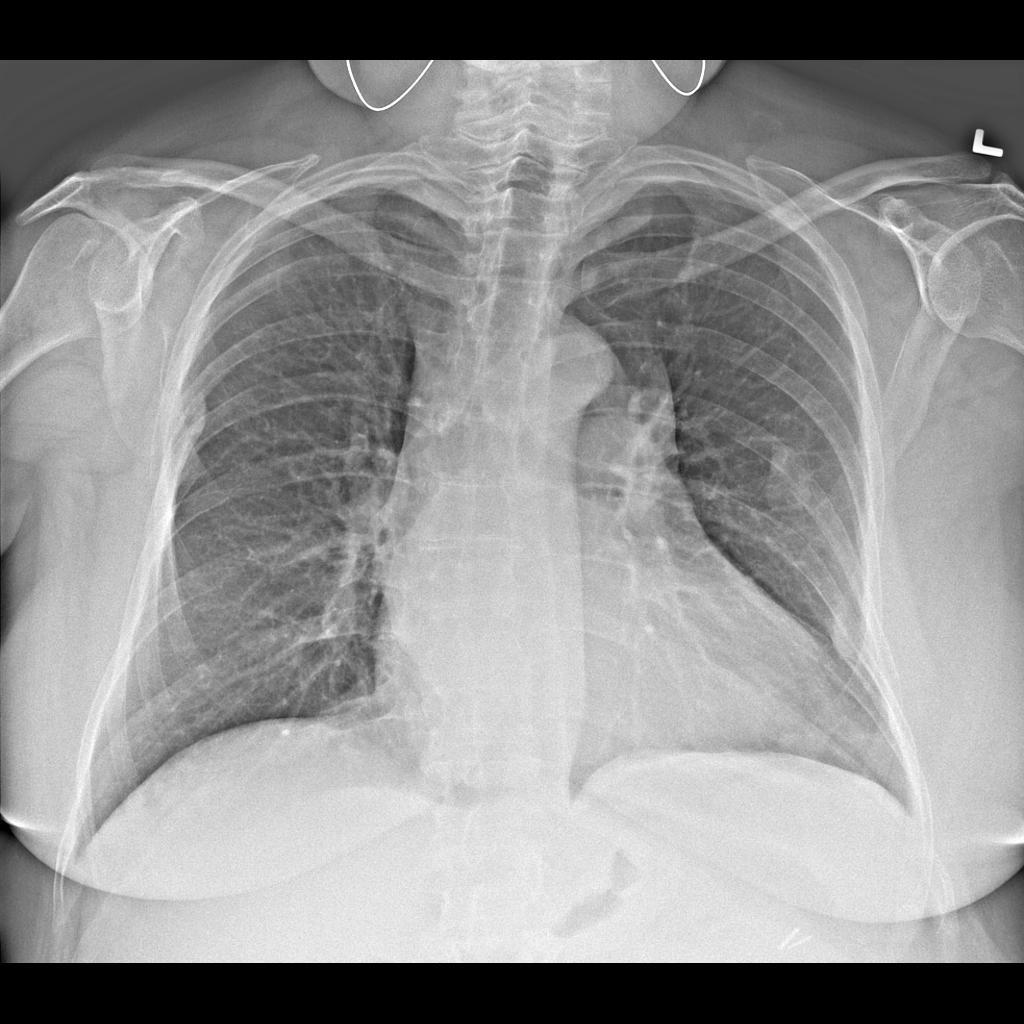Nodule: (812, 594, 876, 664), (765, 439, 817, 521)
